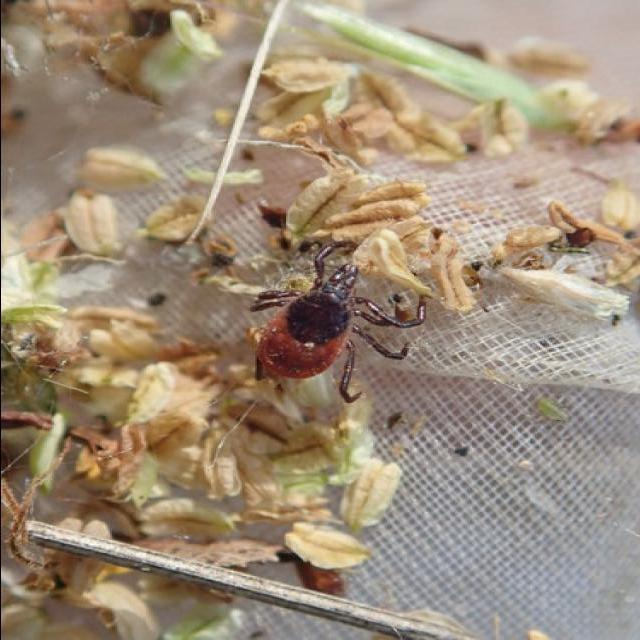Ixodes Ricinus-F: (244, 243, 425, 403)
